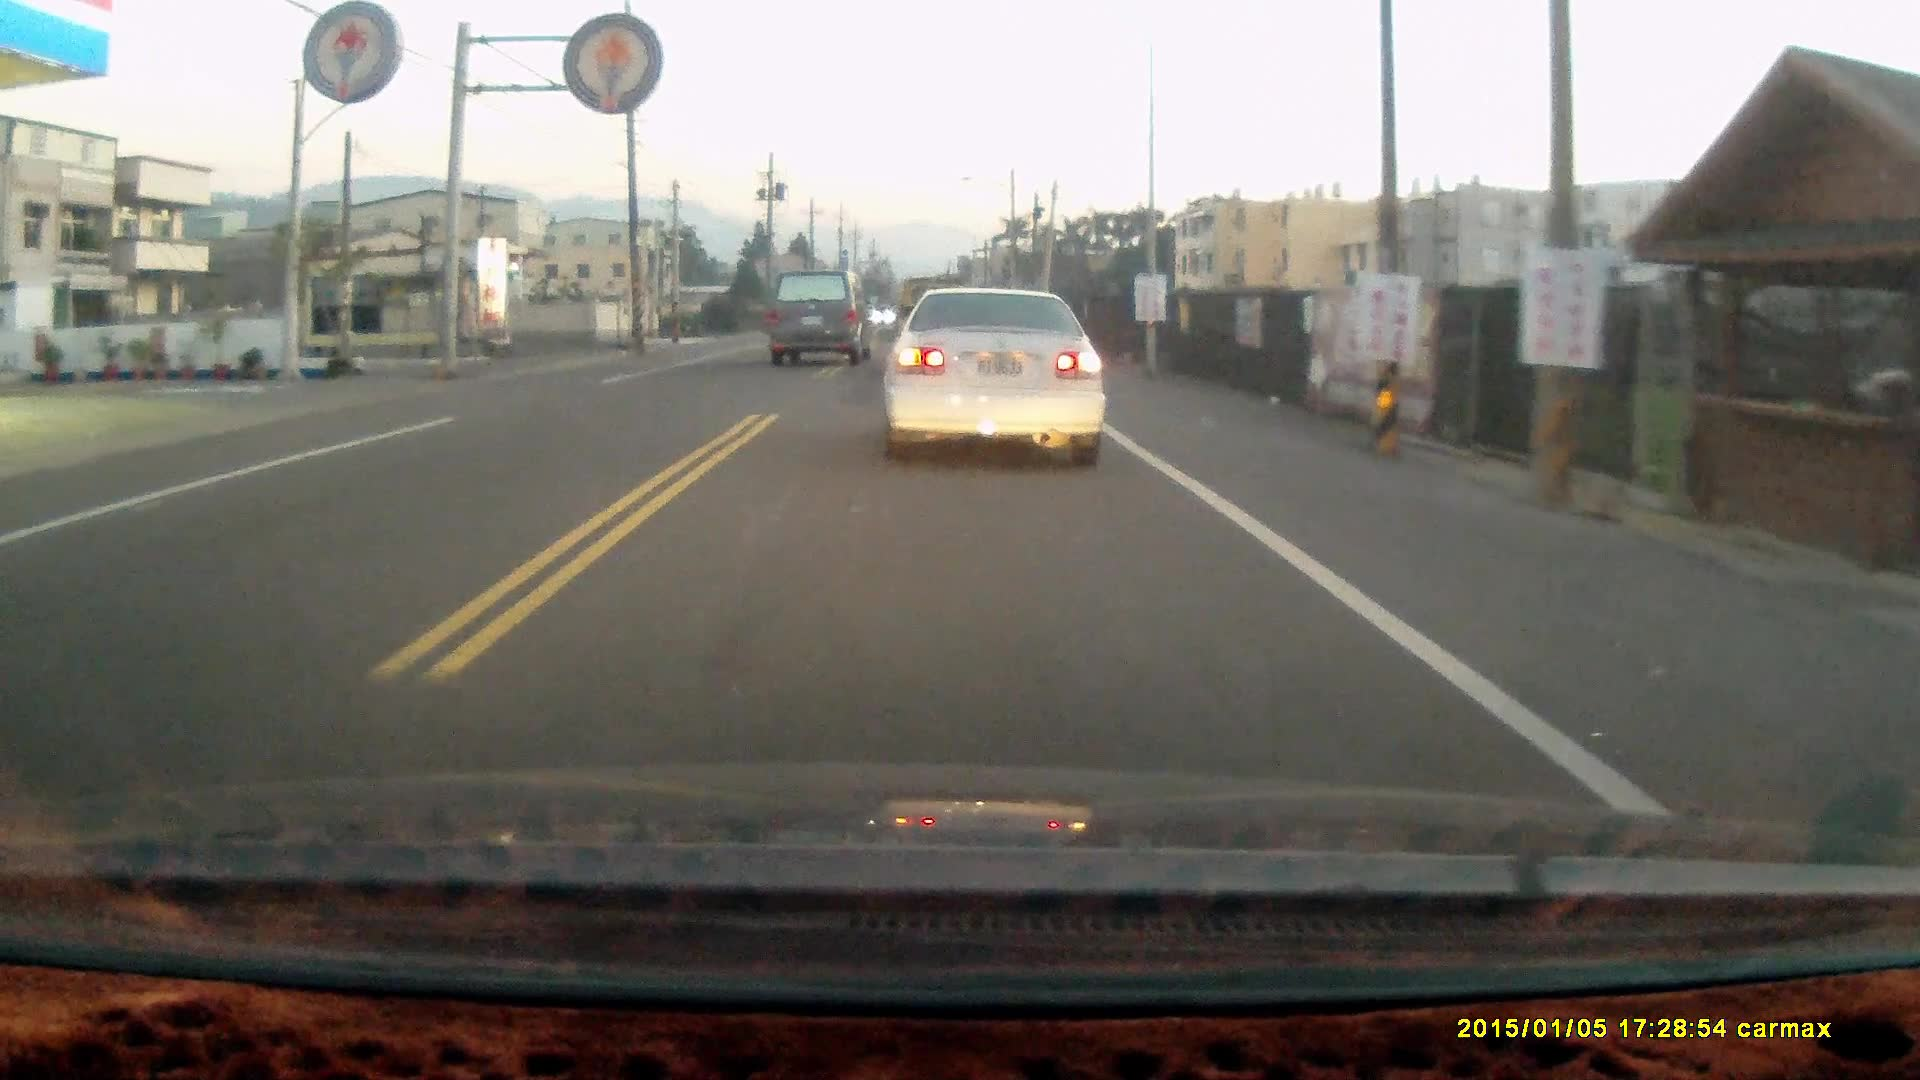pedestrian: (1875, 366, 1920, 489)
vehicle: (877, 283, 1110, 472), (760, 270, 875, 374)
